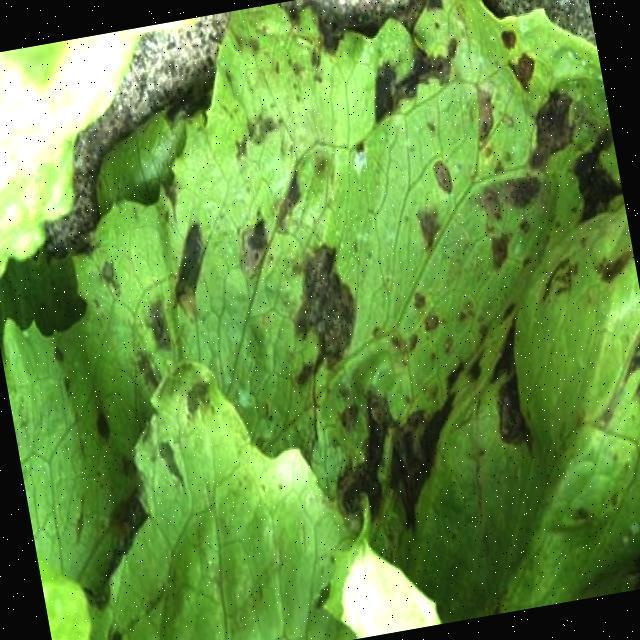Bacterial: (237, 123, 564, 562)
